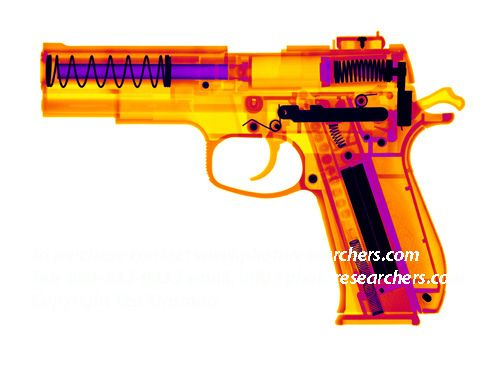gun: (35, 26, 471, 333)
